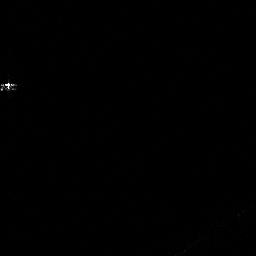ship: (1, 79, 20, 95)
